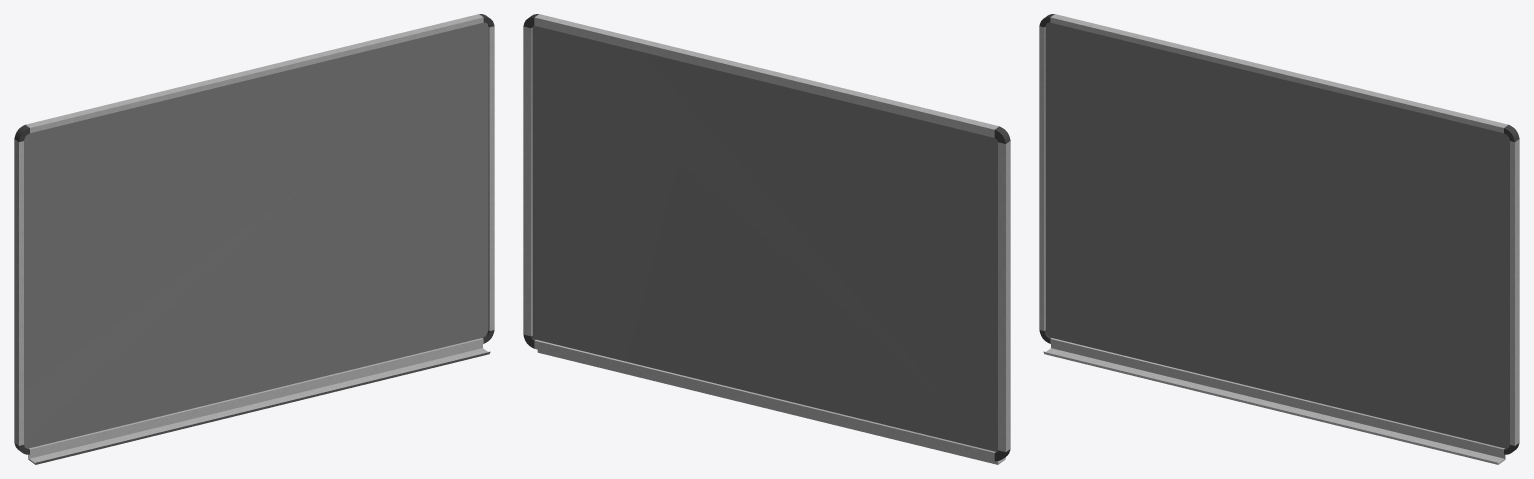
The model's file is propWhiteboard.fbx.
The picture shows the model from 3 angles, left to right: view 1: azimuth 30°, elevation 25°; view 2: azimuth 150°, elevation 25°; view 3: azimuth 330°, elevation 25°; orthographic projection.
Parts seen in each view (by area): view 1: propWhiteboard; view 2: propWhiteboard; view 3: propWhiteboard.
Part boxes in pixels (<box>): propWhiteboard: <box>14,14,494,464</box>; propWhiteboard: <box>523,14,1010,464</box>; propWhiteboard: <box>1039,14,1519,464</box>.
Size of the model in its own units: 148 by 98.71 by 6.21.
3 materials, 1 textured.
